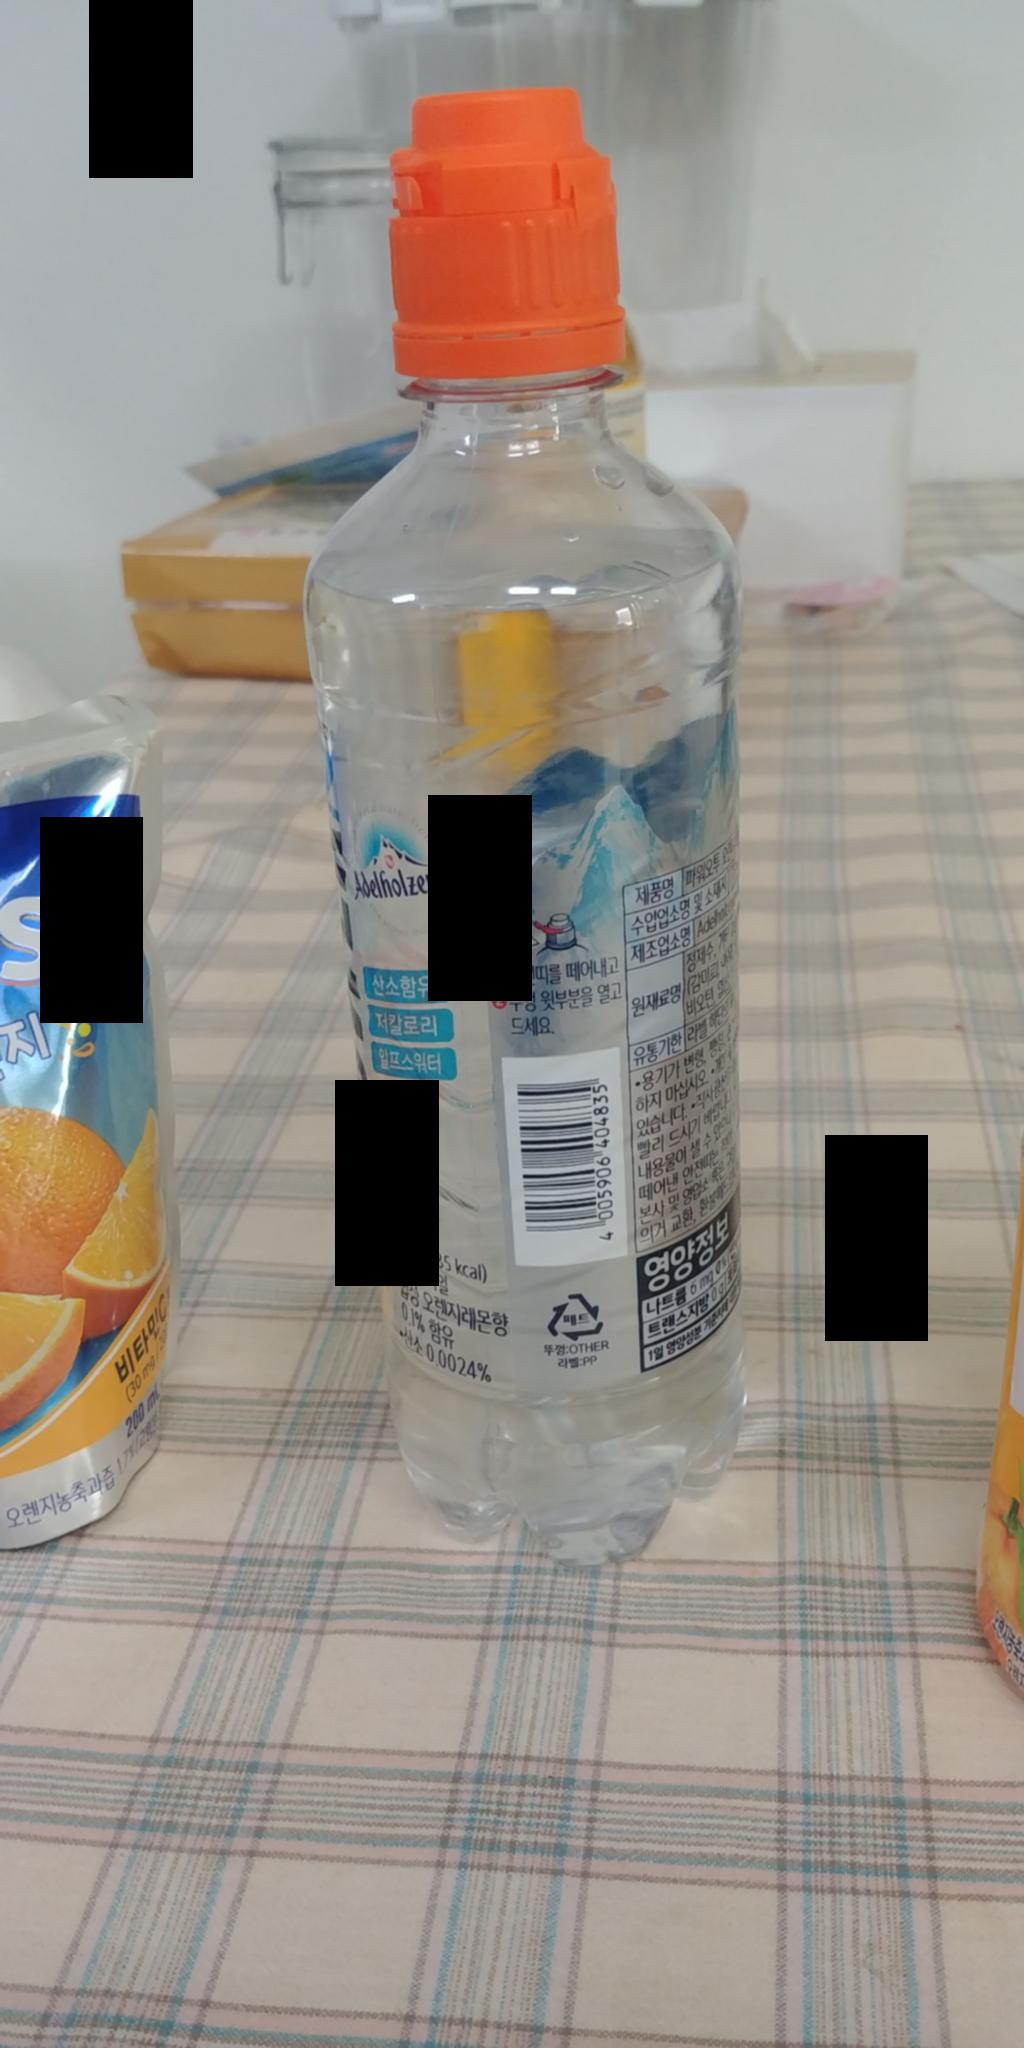cafrisun: (0, 701, 202, 1579)
powerO2_orange: (290, 57, 802, 1597)
